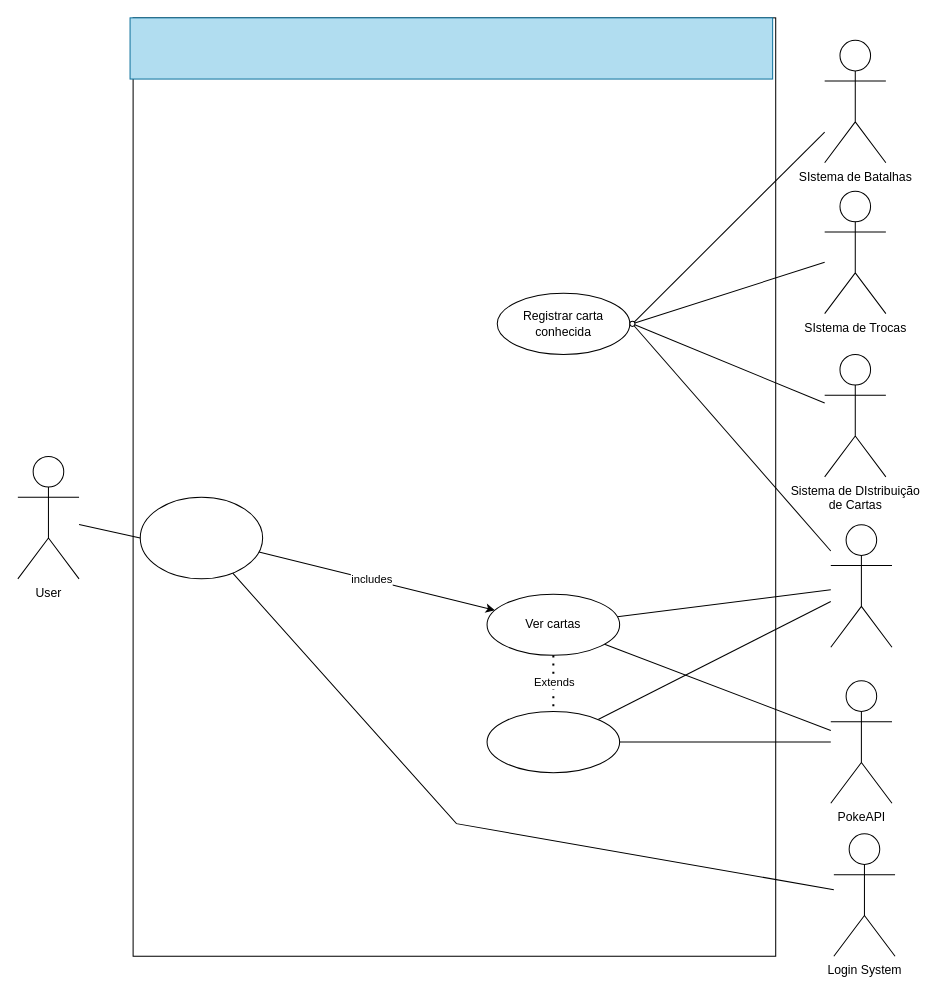
This 937x996 diagram has some shape labels left out. The box of each missing label's shape, as (x1, y1, x2, y2) in pixels:
Database: (830, 524, 892, 647)
login: (139, 496, 263, 579)
Sistema: (129, 17, 773, 79)
Ver descrição: (486, 710, 620, 773)
